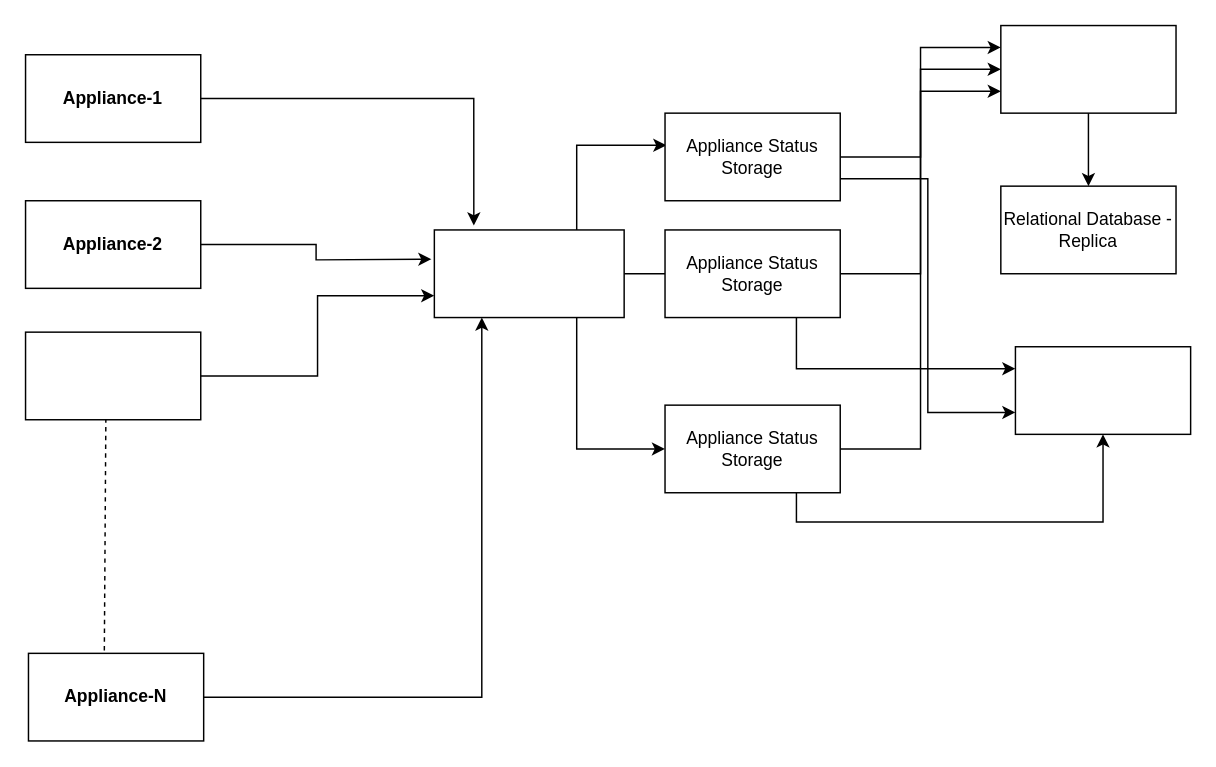
Some shapes in this 1216 by 767 pixel diagram are drawn without their labels. Each missing label, with the centre of its shape:
Appliance-3: [112,375]
Key Value Storage like etcd/redis: [1102,389]
Load Balancer: [528,273]
Relational Database: [1087,68]
